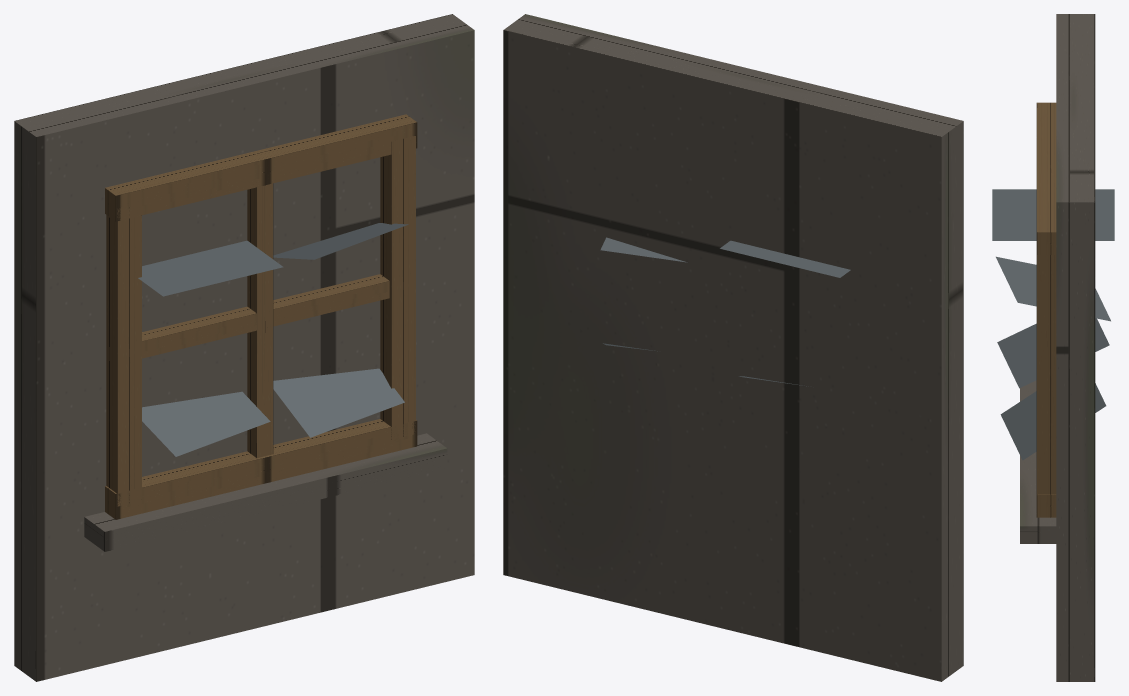
Rendered from nha-hoang-cua-so-vo-kinh.glb.
3 views of the same model, side by side, from view 1: azimuth 30°, elevation 25°; view 2: azimuth 150°, elevation 25°; view 3: azimuth 270°, elevation 25° (orthographic). The views are drawn at different scales.
Visible parts, largest first — view 1: nha-hoang-cua-so-vo-kinh; view 2: nha-hoang-cua-so-vo-kinh; view 3: nha-hoang-cua-so-vo-kinh.
Boxes of the visible parts, box(x1,y1,x2,y2) form: nha-hoang-cua-so-vo-kinh: box(14, 14, 474, 681); nha-hoang-cua-so-vo-kinh: box(503, 14, 963, 681); nha-hoang-cua-so-vo-kinh: box(992, 14, 1114, 681).
Size of the model in its own units: 1.6 by 1.9 by 0.44.
3 materials, 2 textured.
